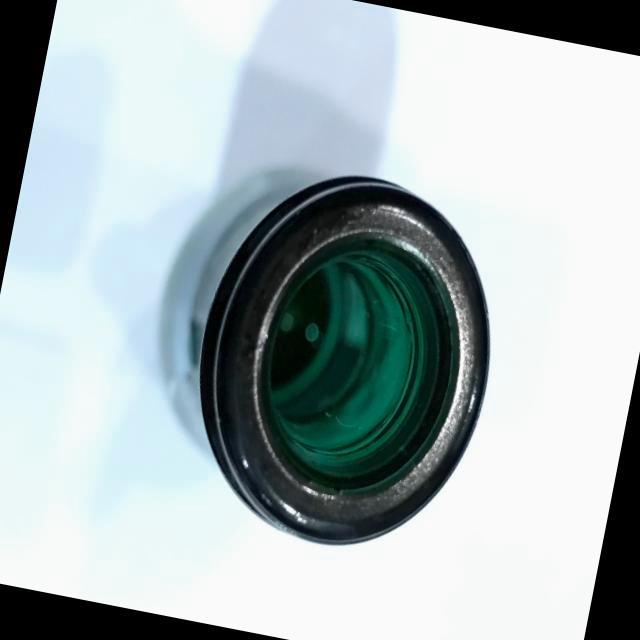glass: (120, 122, 540, 595)
